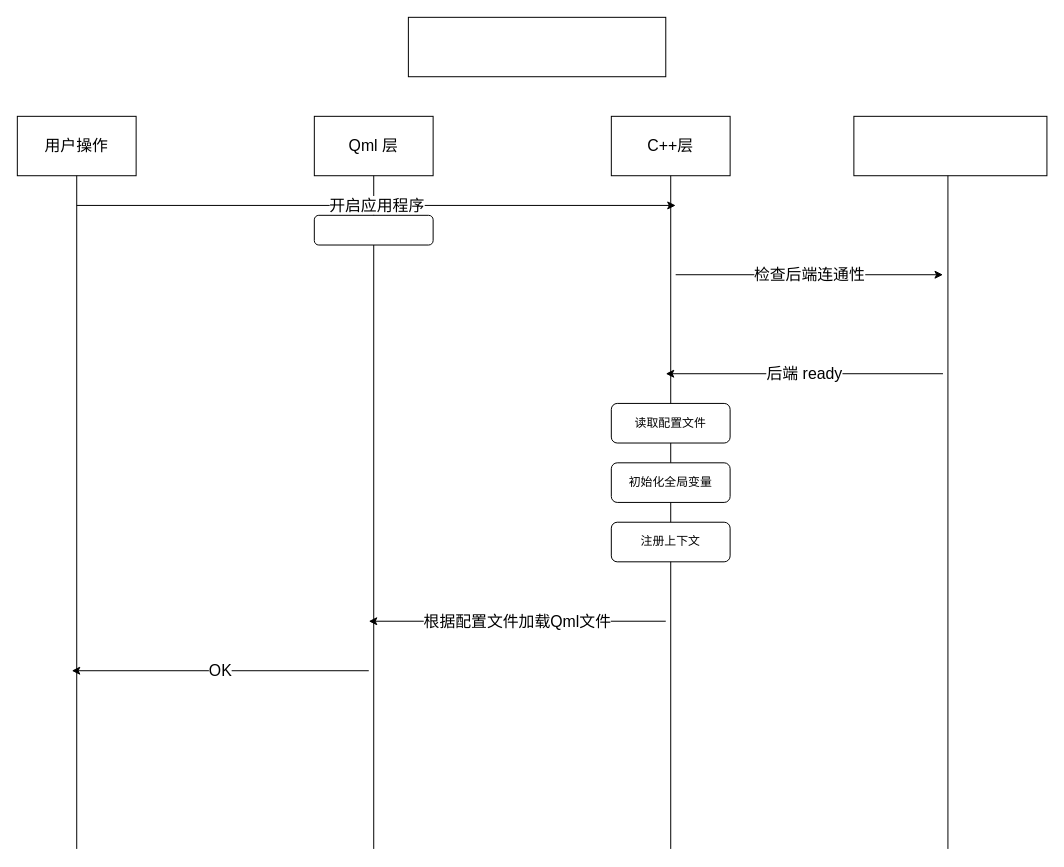
Image size: 1064x867. Some labels were removed from this diagram. Here are the shapes that lost their labels. From the top down, the centre of each, then its label:
At [536,46]: "startup的实现".
At [950,145]: "we-mp-rss中转层".
At [373,229]: "splash".
